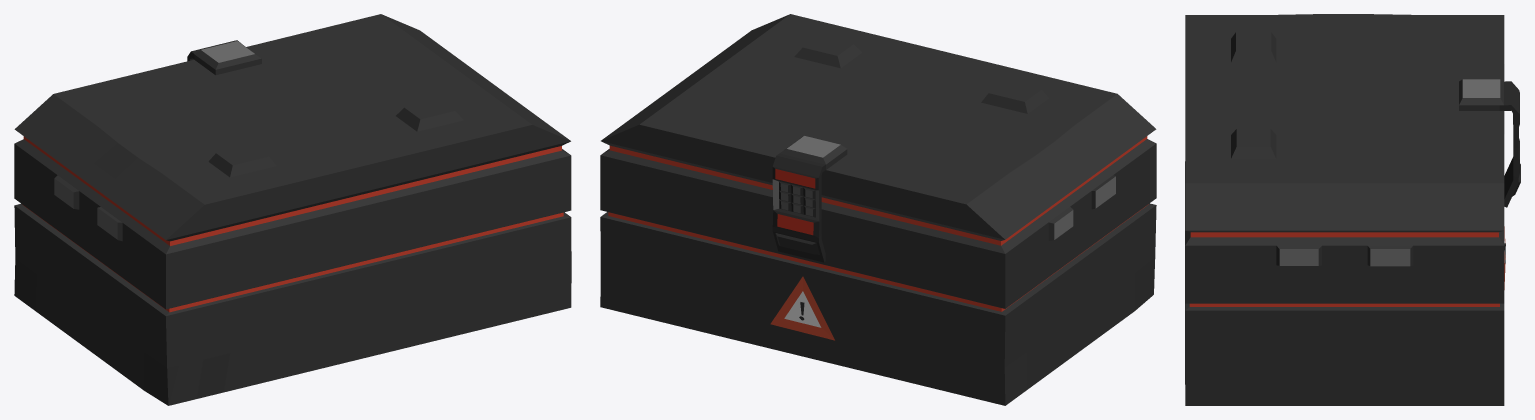
The model's file is caja peligro.fbx.
The picture shows the model from 3 angles, left to right: view 1: azimuth 30°, elevation 25°; view 2: azimuth 150°, elevation 25°; view 3: azimuth 270°, elevation 25°; orthographic projection. The views are drawn at different scales.
Parts seen in each view (by area): view 1: Caja Peligro; view 2: Caja Peligro; view 3: Caja Peligro.
Part boxes in pixels (<box>): Caja Peligro: <box>14,14,571,405</box>; Caja Peligro: <box>600,14,1156,405</box>; Caja Peligro: <box>1185,14,1520,405</box>.
Bounding box in the file's own units: 105 × 49 × 70.
Materials: 1 (1 with a texture image).
